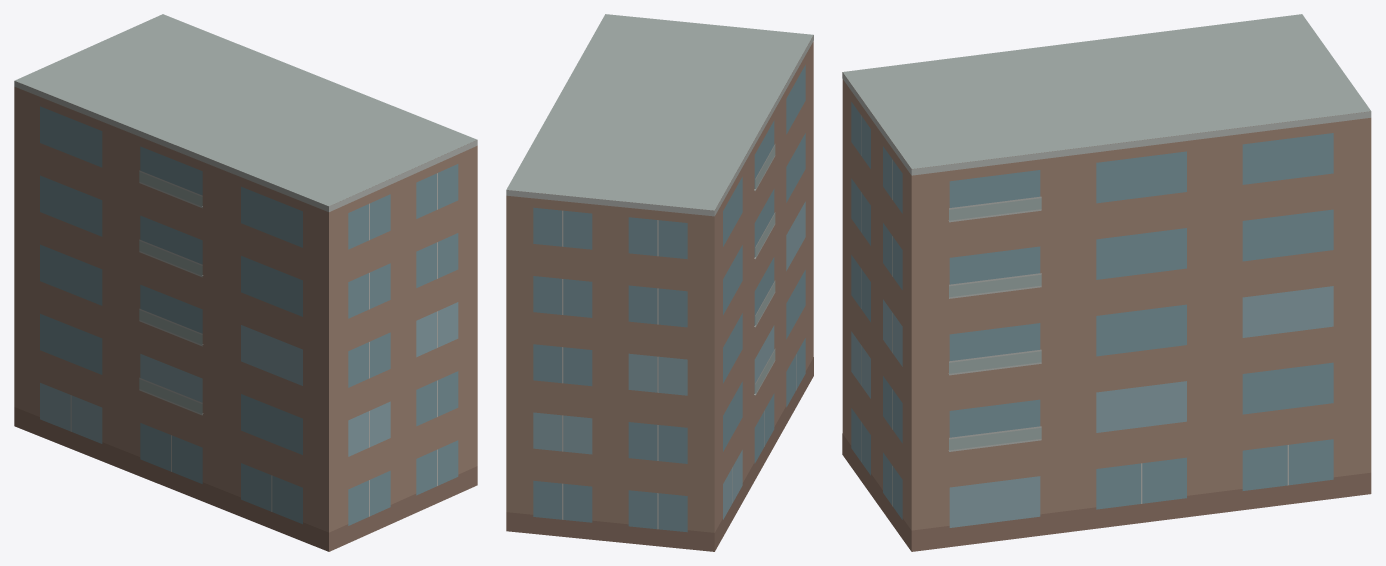
Rendered from survey-upis-32684485.glb.
The picture shows the model from 3 angles, left to right: view 1: azimuth 30°, elevation 25°; view 2: azimuth 150°, elevation 25°; view 3: azimuth 270°, elevation 25°; orthographic projection. The views are drawn at different scales.
Visible parts, largest first — view 1: survey-upis-32684485.tmp; view 2: survey-upis-32684485.tmp; view 3: survey-upis-32684485.tmp.
Part boxes in pixels (x1,y1,x2,y2): survey-upis-32684485.tmp: (14,14,477,551); survey-upis-32684485.tmp: (506,14,813,551); survey-upis-32684485.tmp: (842,14,1371,551).
Bounding box in the file's own units: 12.44 × 14.3 × 17.92.
